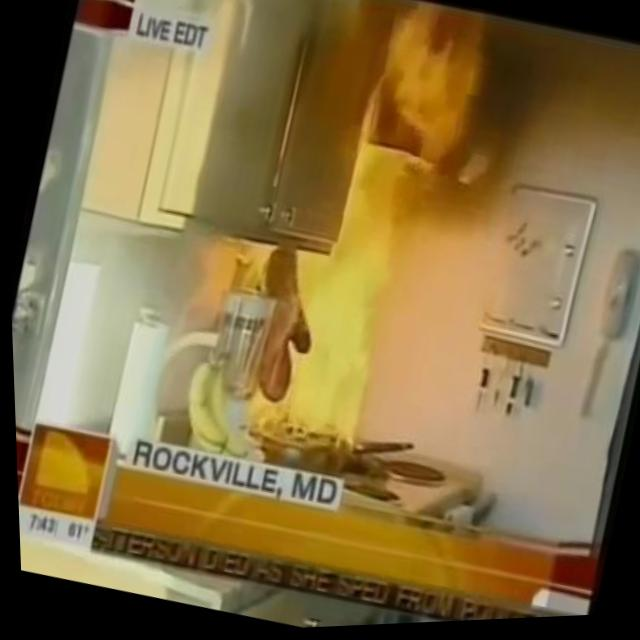fire: (237, 167, 415, 466)
